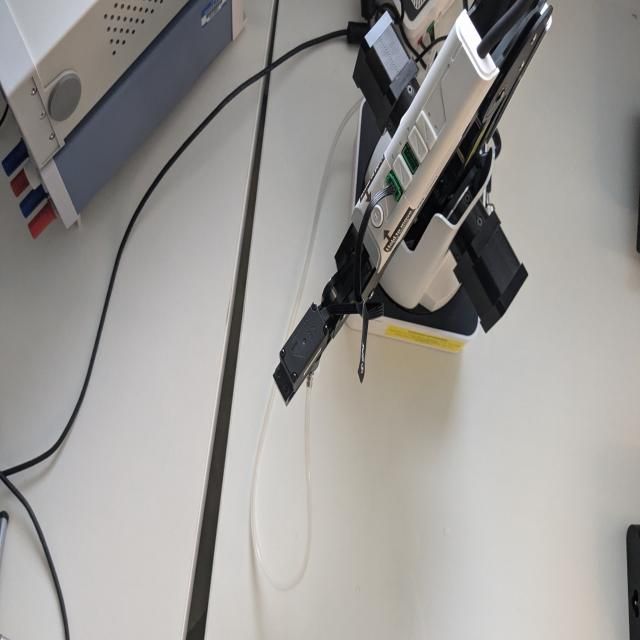Robot-end-effector-HF8z: (271, 301, 333, 408)
